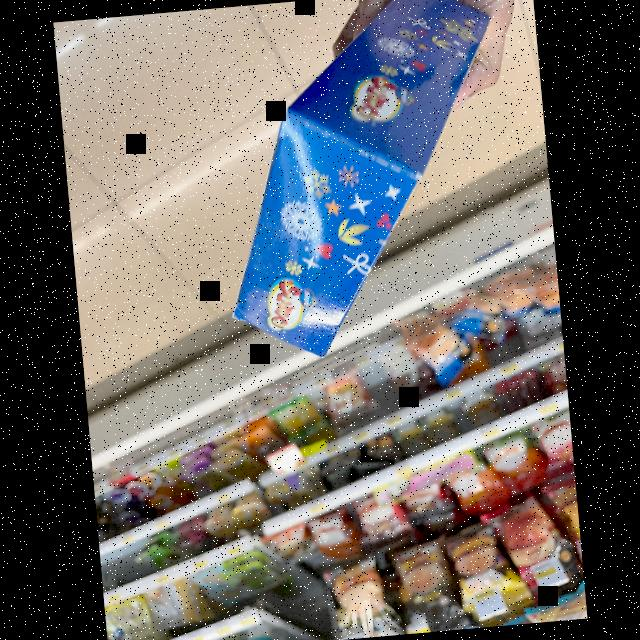cardboard_box: (188, 0, 523, 388)
